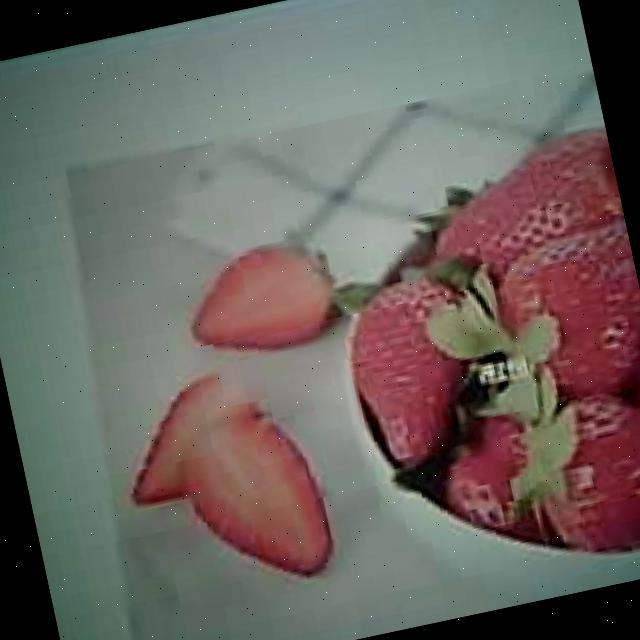ripe: (334, 262, 484, 470), (492, 213, 640, 407), (525, 382, 640, 561)
